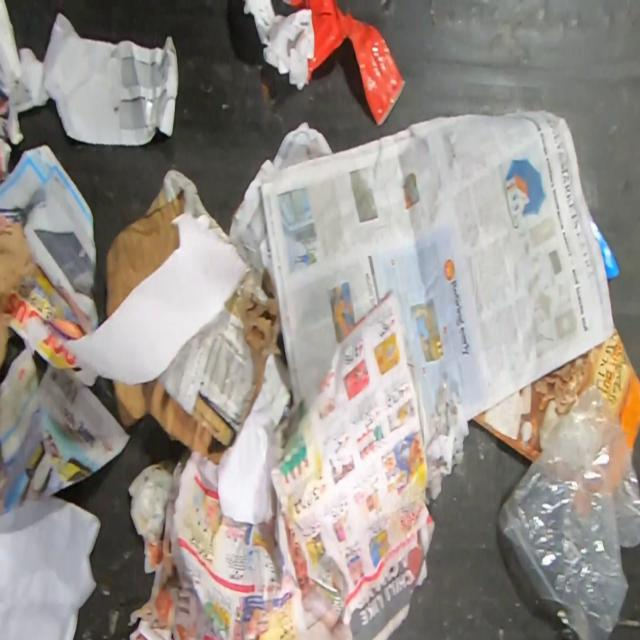cardboard: (20, 211, 251, 386), (111, 268, 283, 468), (470, 321, 640, 462), (105, 169, 209, 321), (588, 205, 620, 282), (209, 214, 233, 242)
rigid_plastic: (280, 0, 406, 128)
soft_plastic: (497, 382, 640, 640)
